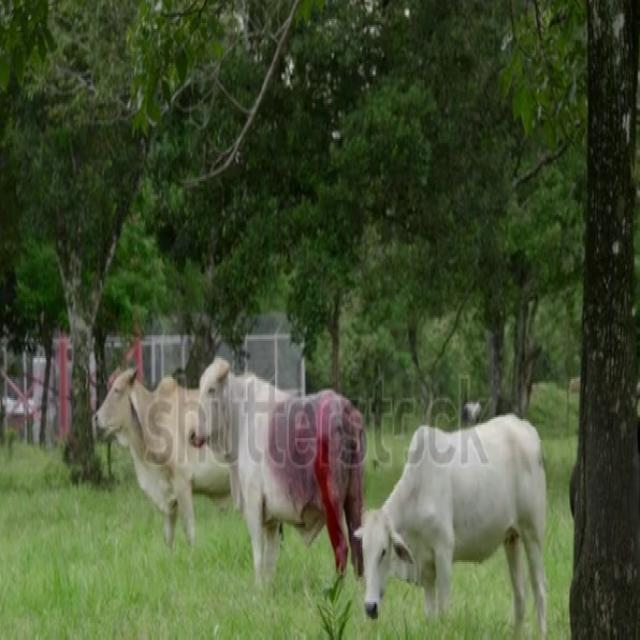injured-animals: (174, 357, 386, 596)
normal_animals: (350, 406, 552, 638), (67, 338, 221, 518)
